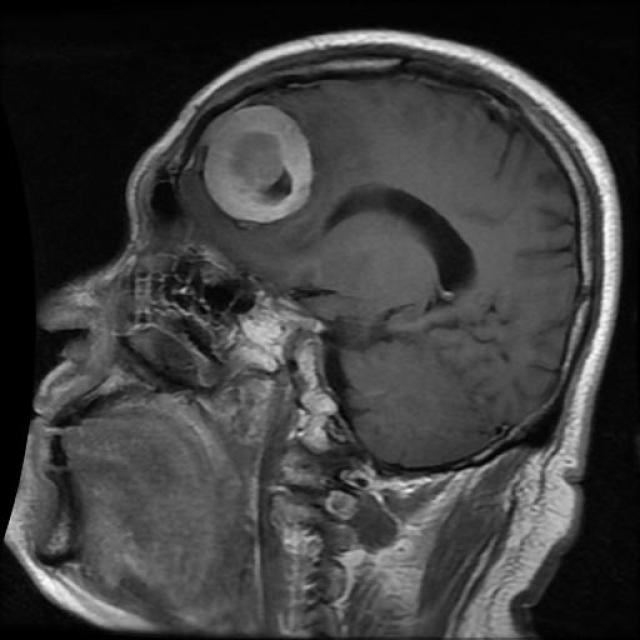meningioma: (204, 106, 314, 224)
